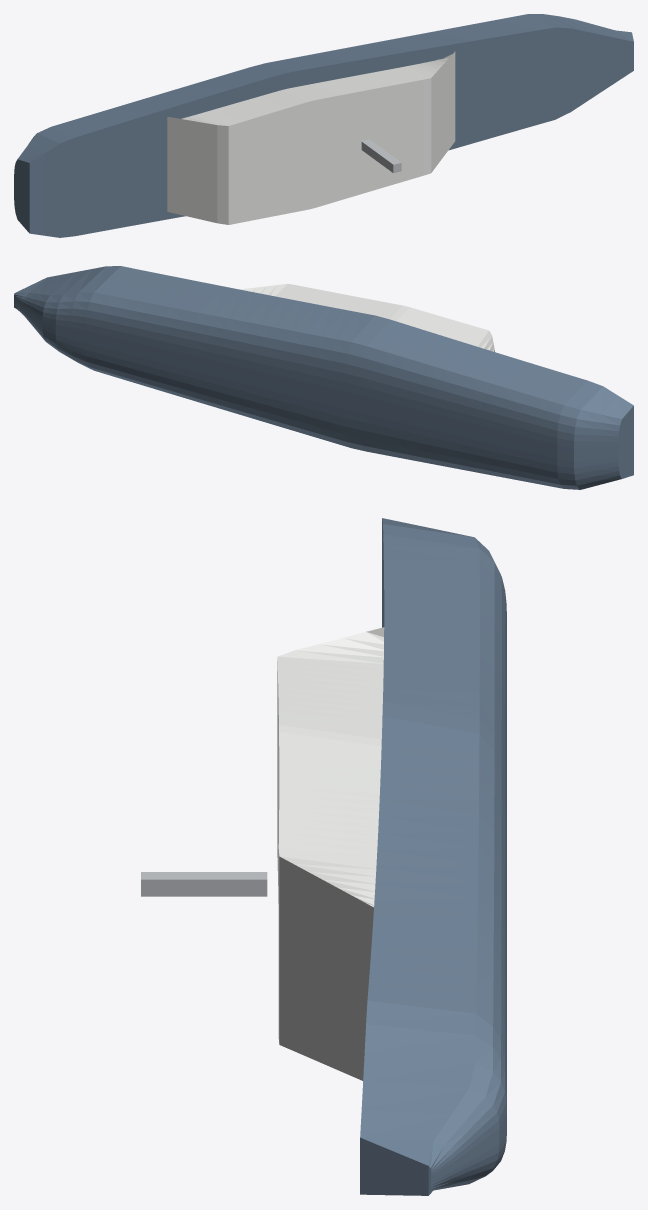
Rendered from loft-power-small-slender.glb.
3 views of the same model, one above another, from view 1: azimuth 30°, elevation 25°; view 2: azimuth 150°, elevation 25°; view 3: azimuth 270°, elevation 25° (orthographic). The views are drawn at different scales.
Visible parts, largest first — view 1: loft-power-small-slender; view 2: loft-power-small-slender; view 3: loft-power-small-slender.
Boxes of the visible parts, box(x1,y1,x2,y2) form: loft-power-small-slender: box(14, 14, 633, 237); loft-power-small-slender: box(14, 266, 633, 489); loft-power-small-slender: box(141, 518, 506, 1195).
Size of the model in its own units: 1.8 by 0.3502 by 0.4696.
